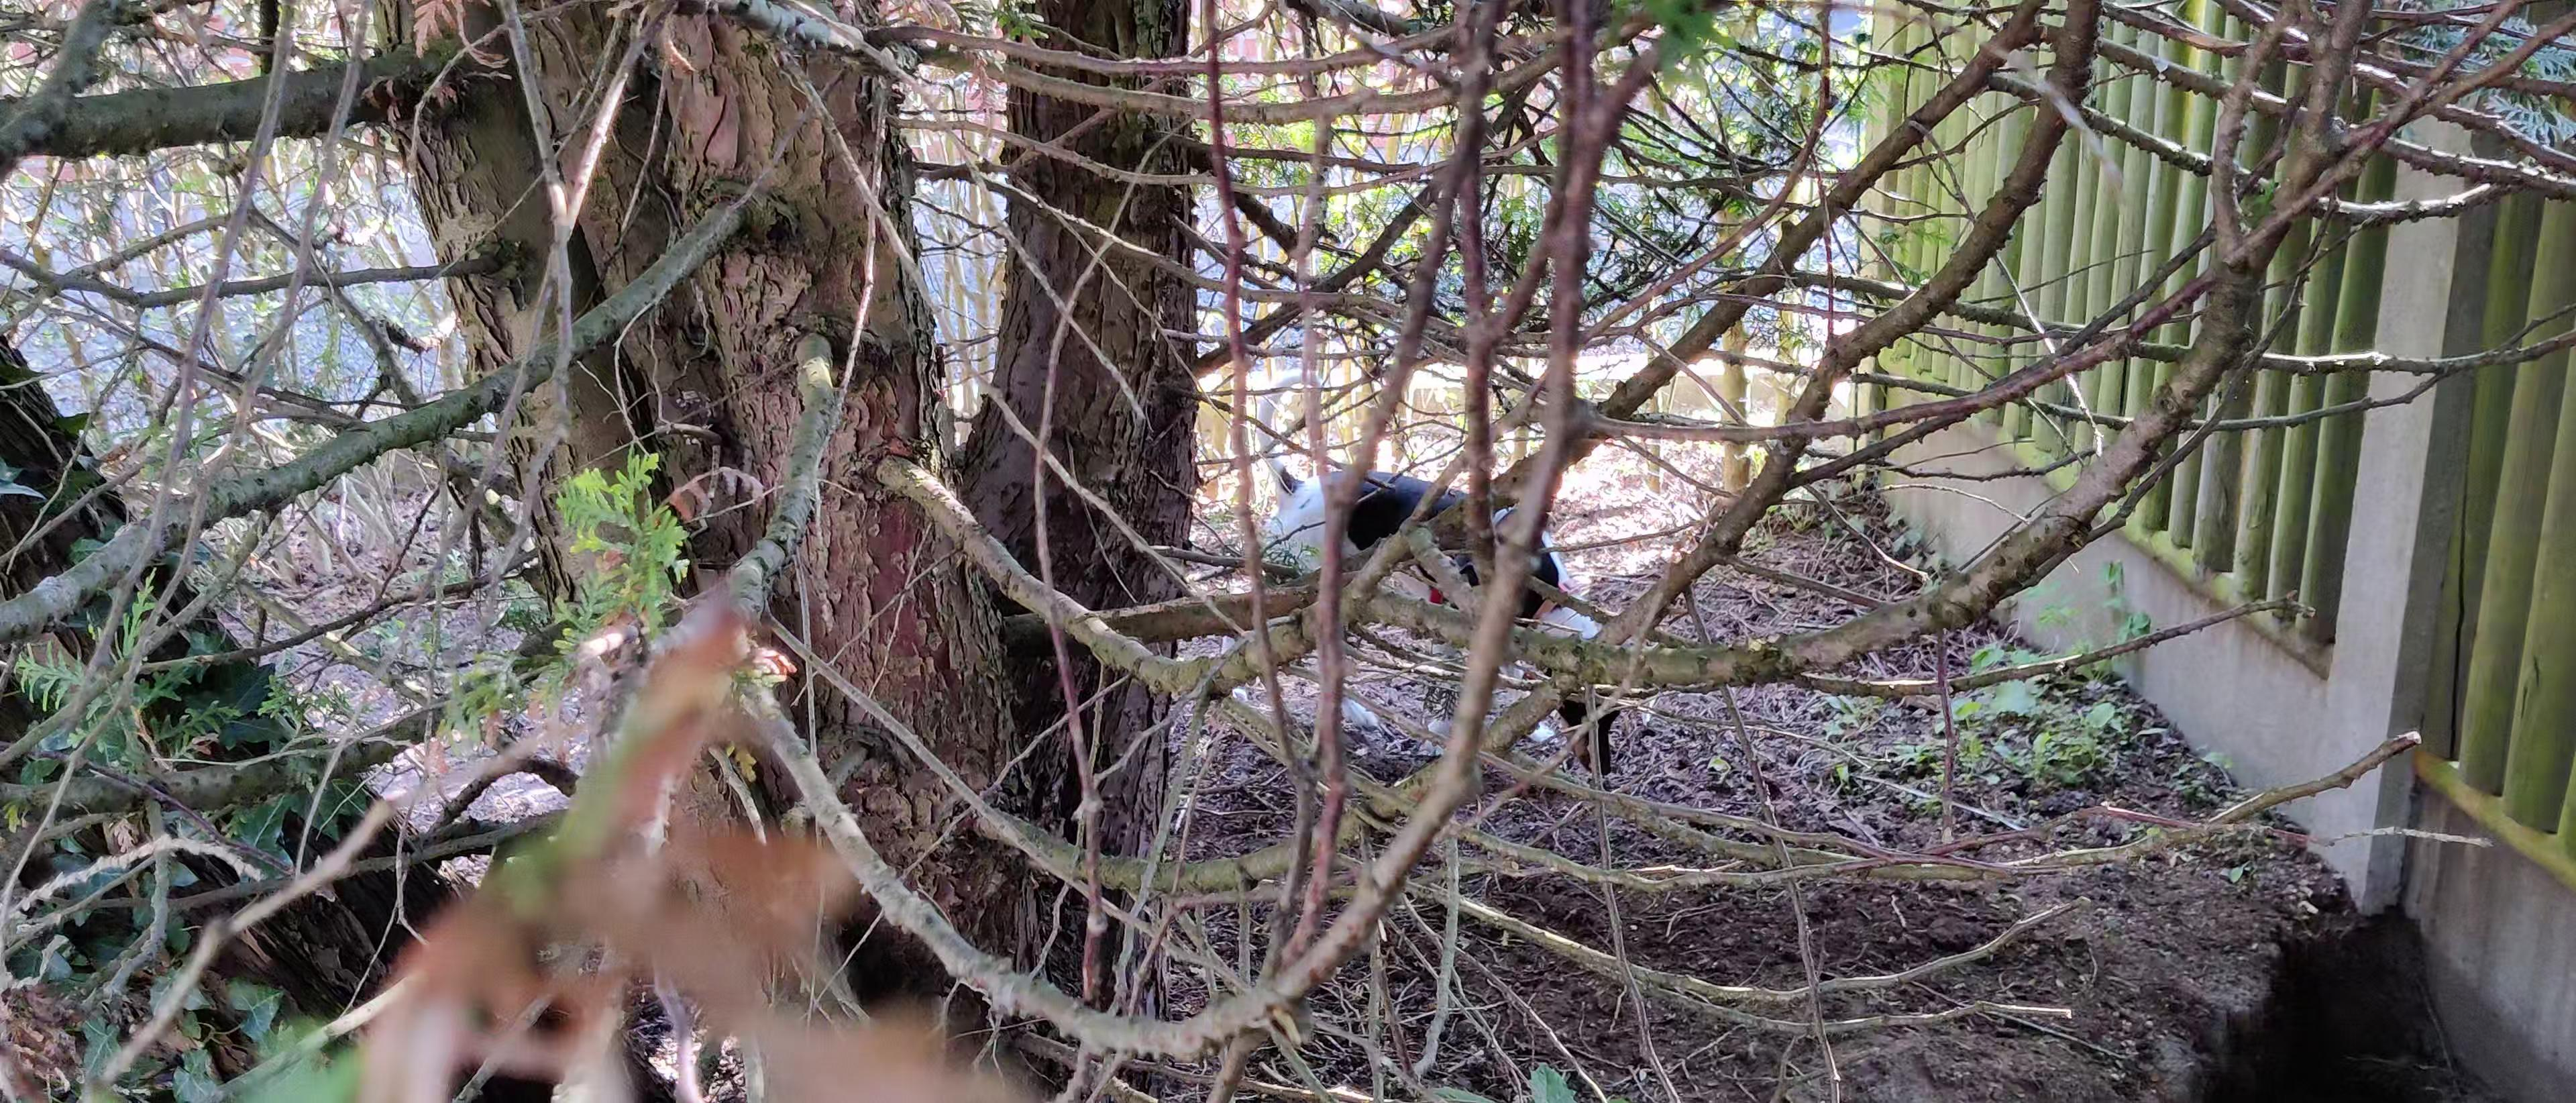Dog: (1217, 353, 1625, 789)
